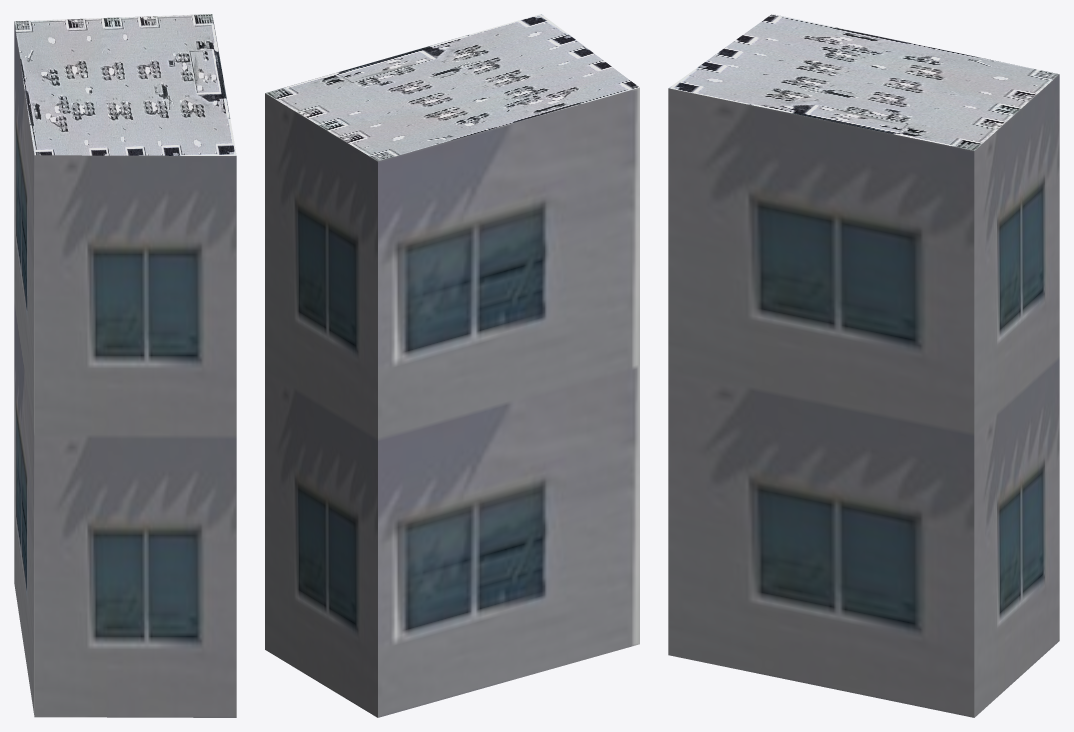
Rendered from ResTex__4073.fbx.
The picture shows the model from 3 angles, left to right: view 1: azimuth 30°, elevation 25°; view 2: azimuth 150°, elevation 25°; view 3: azimuth 270°, elevation 25°; orthographic projection.
Visible parts, largest first — view 1: CityEngineMaterial_10_m, CityEngineMaterial_m; view 2: CityEngineMaterial_10_m, CityEngineMaterial_m; view 3: CityEngineMaterial_10_m, CityEngineMaterial_m.
Part boxes in pixels (x1,y1,x2,y2): CityEngineMaterial_10_m: (14,23,236,717); CityEngineMaterial_m: (14,14,236,155); CityEngineMaterial_10_m: (265,88,639,717); CityEngineMaterial_m: (265,14,639,161); CityEngineMaterial_10_m: (668,74,1059,717); CityEngineMaterial_m: (669,14,1059,150).
Size of the model in its own units: 3.11 by 6 by 3.75.
2 materials, 2 textured.
